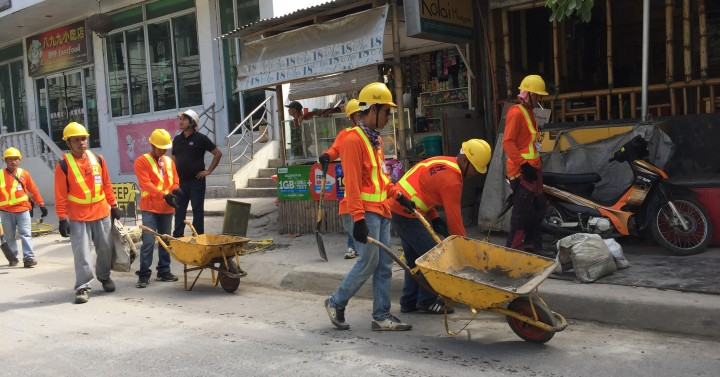Hard Hat: (360, 86, 397, 131), (457, 138, 493, 181), (517, 74, 550, 110), (62, 121, 91, 154), (148, 129, 172, 159), (179, 110, 199, 135), (4, 148, 23, 171), (345, 99, 359, 128)
Person: (324, 86, 412, 333), (393, 137, 497, 314), (54, 121, 121, 303), (505, 74, 563, 255), (322, 101, 373, 260), (133, 132, 178, 288), (172, 110, 223, 239), (2, 149, 49, 268), (282, 104, 309, 159)
Vest: (399, 155, 475, 214), (58, 137, 107, 205), (509, 91, 545, 161), (136, 144, 175, 195), (2, 158, 32, 206)
